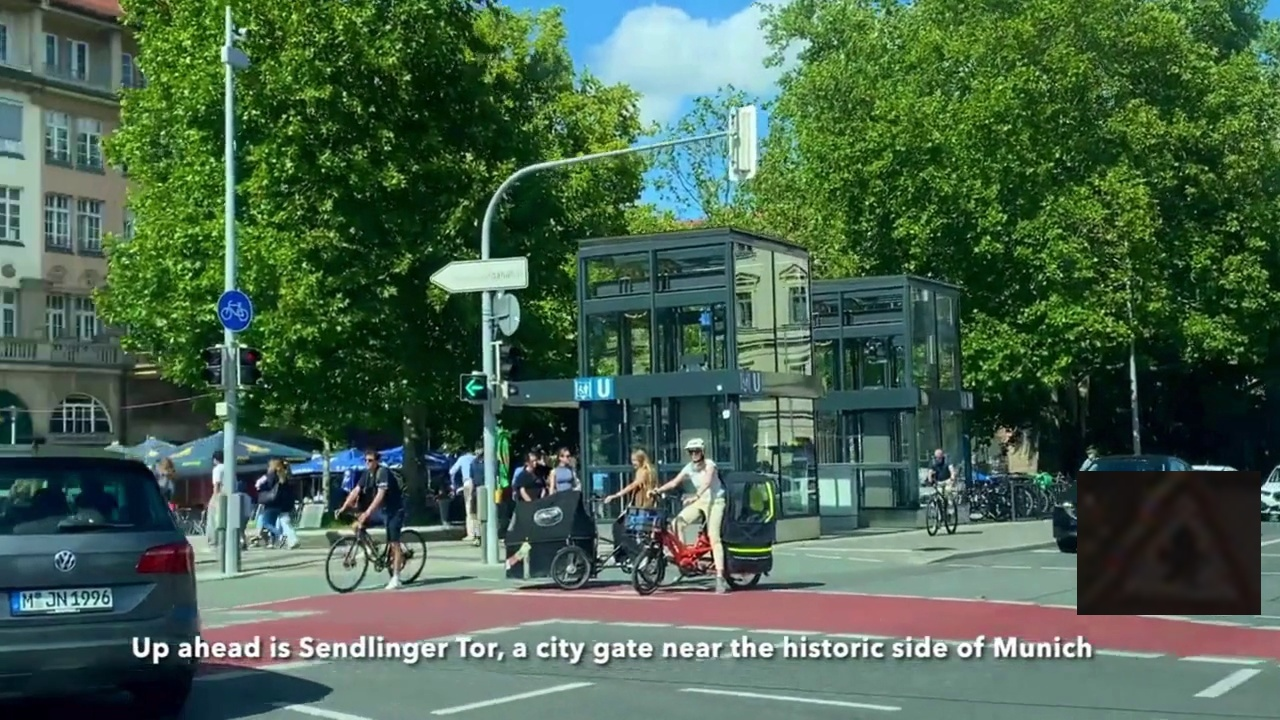Right-of-way: (1077, 471, 1261, 615)
